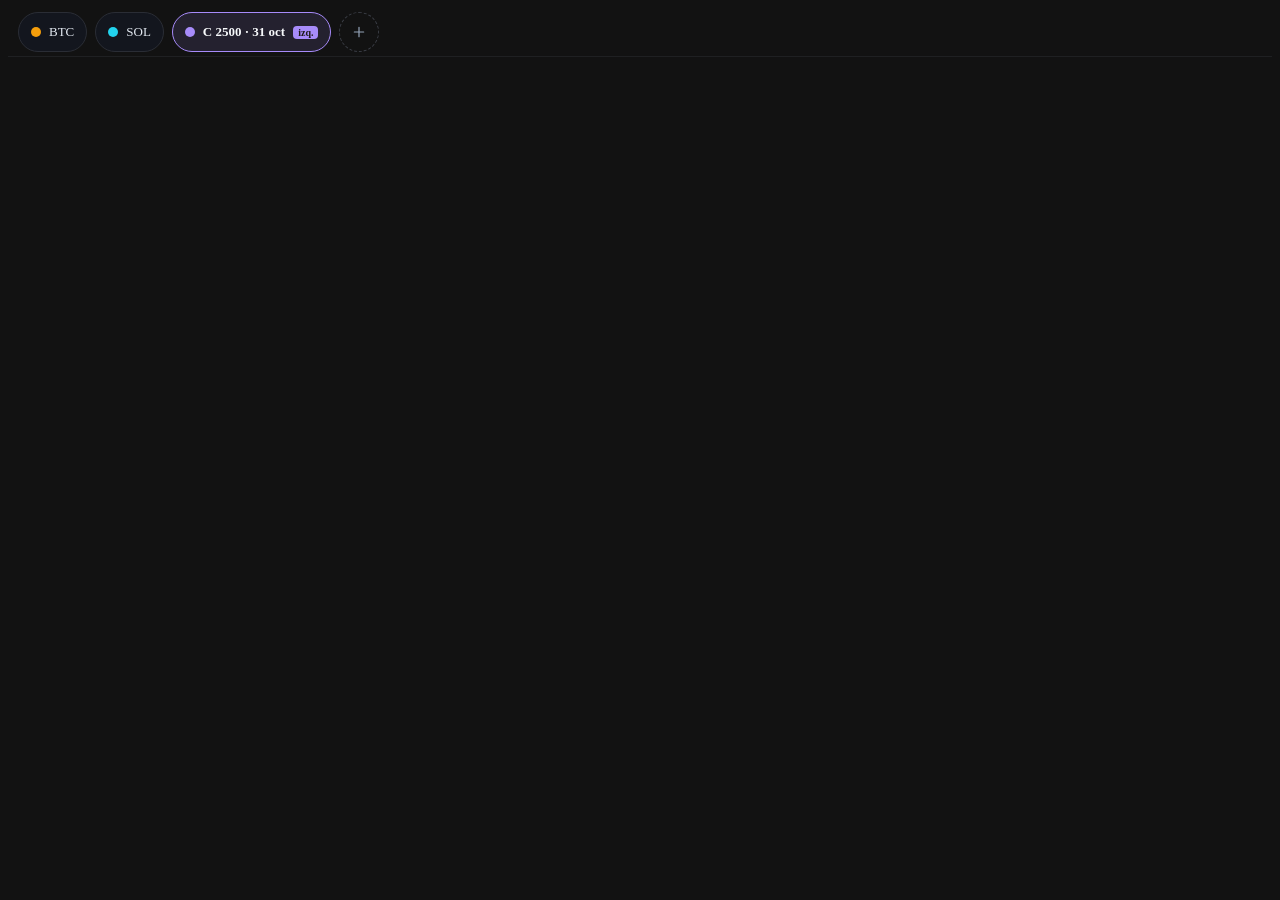
Scenario: OverlayChips (móvil) › tocar el enfocado (opción) abre "Acciones" sin "Ver en grande"
What coordinates should you click on to do the following:
click the button with aria-label "ETH 31 oct · C 2500"
I would click on:
 (252, 32)
Its box is [170,10,334,54].
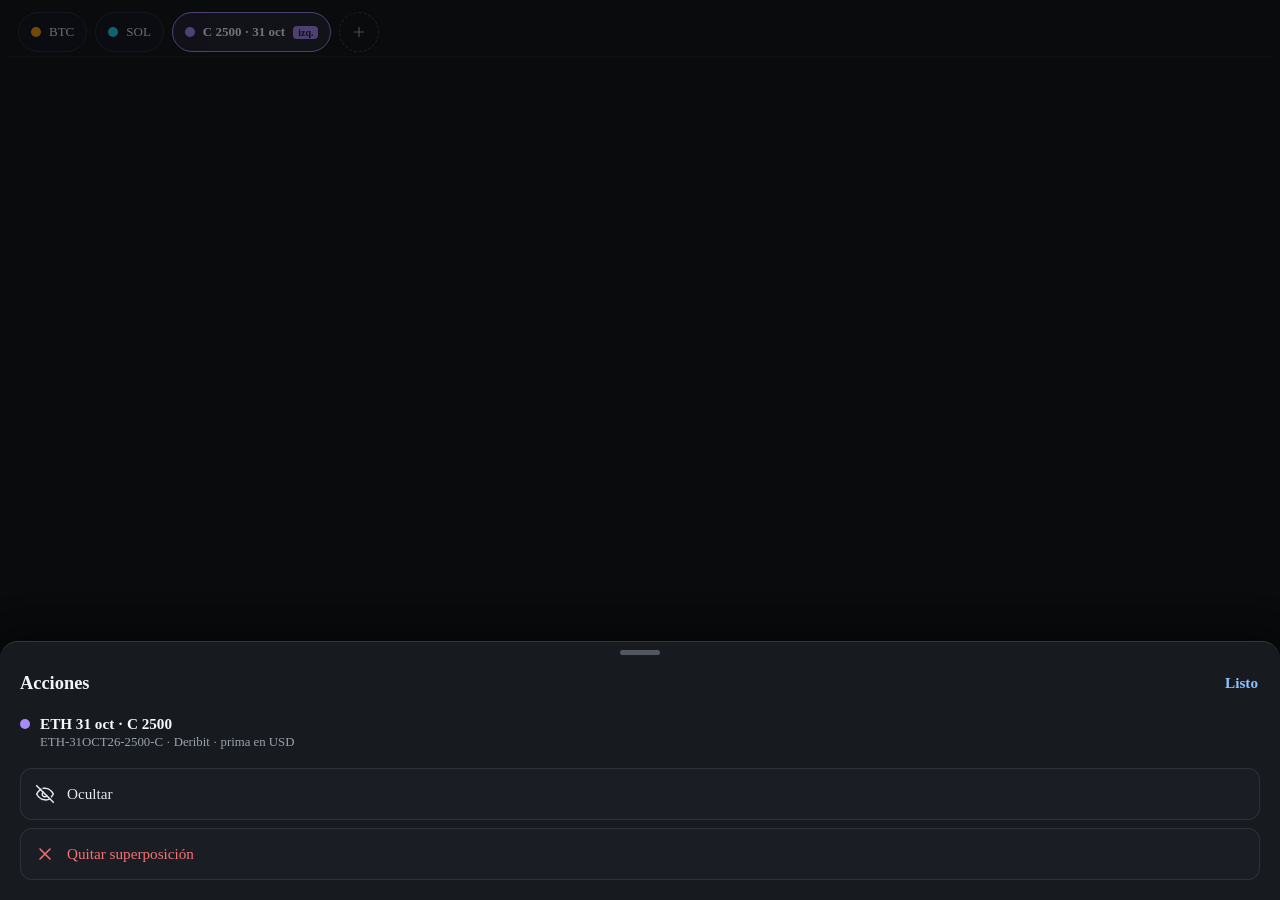
What coordinates should you click on to do the following:
click the button "Ocultar"
I would click on:
 (90, 794)
Its box is [20,768,1260,820].
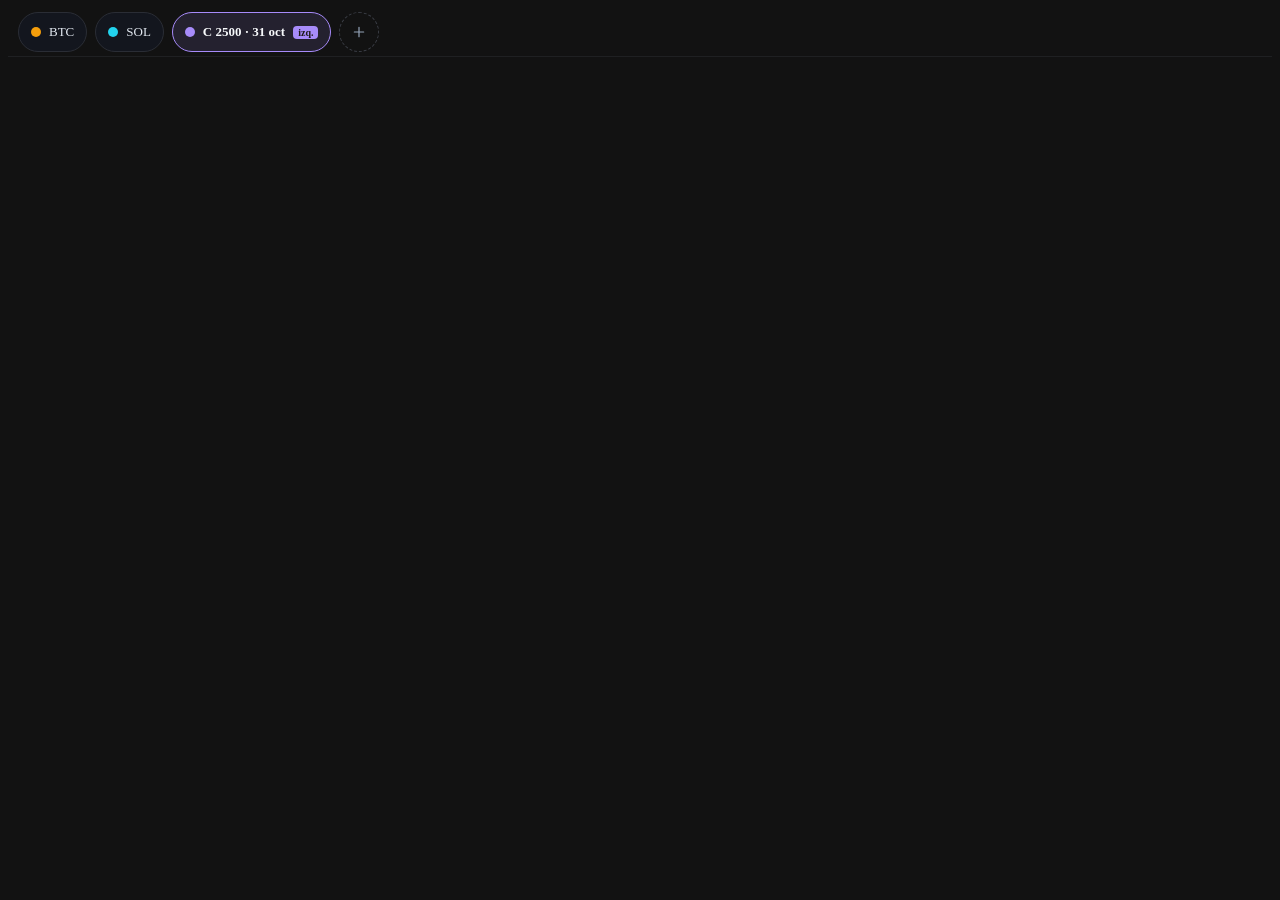
Now the dialog is gone
